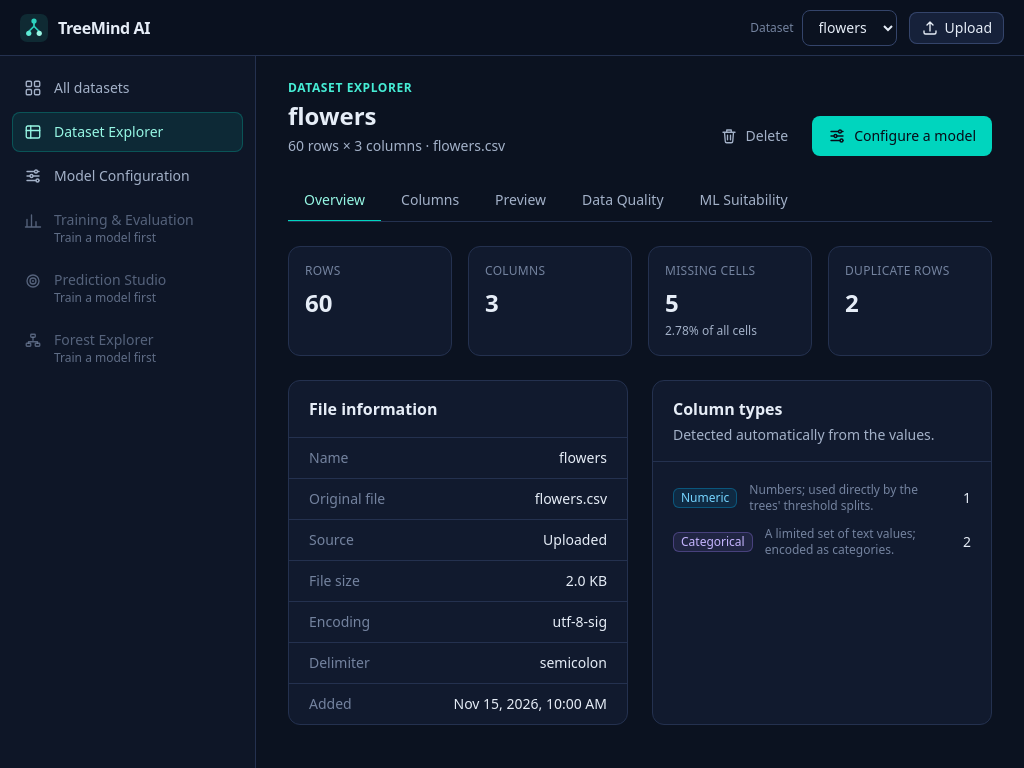
Dataset Explorer › deletes only after confirmation and returns to the workspace with a notice
Expected: the heading "flowers" is shown, [288, 99, 376, 132]
Click the button with aria-label "Delete flowers" at (754, 136), box [704, 116, 804, 156]
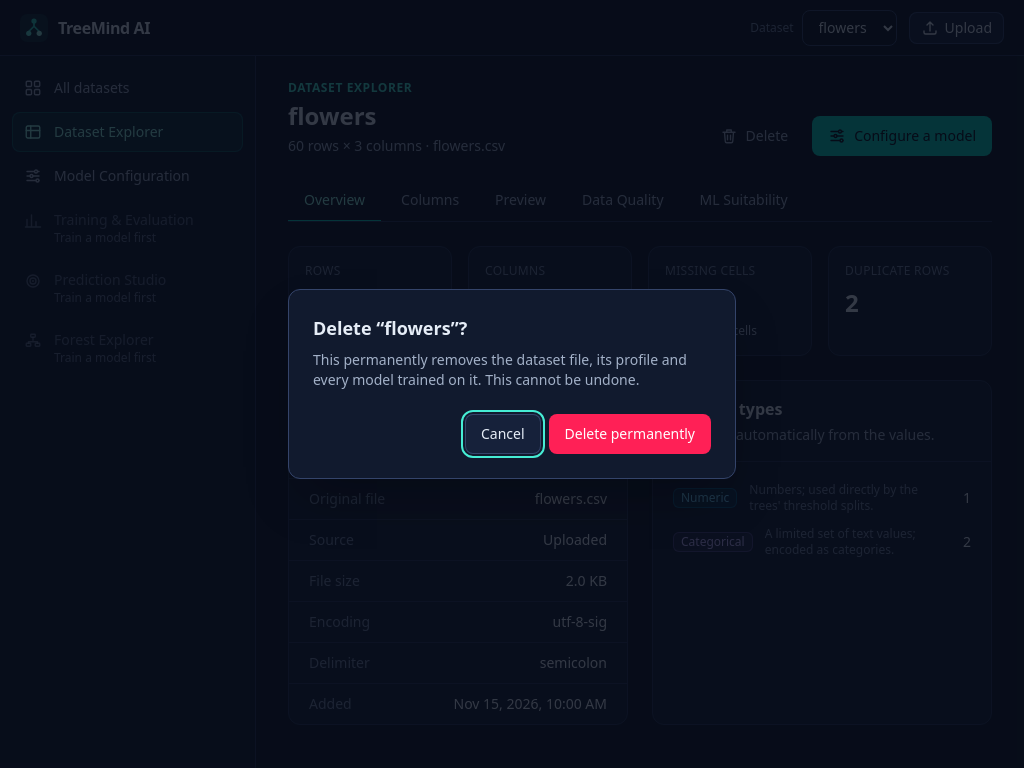
Click the button "Cancel" at (503, 434), box [465, 414, 541, 454]
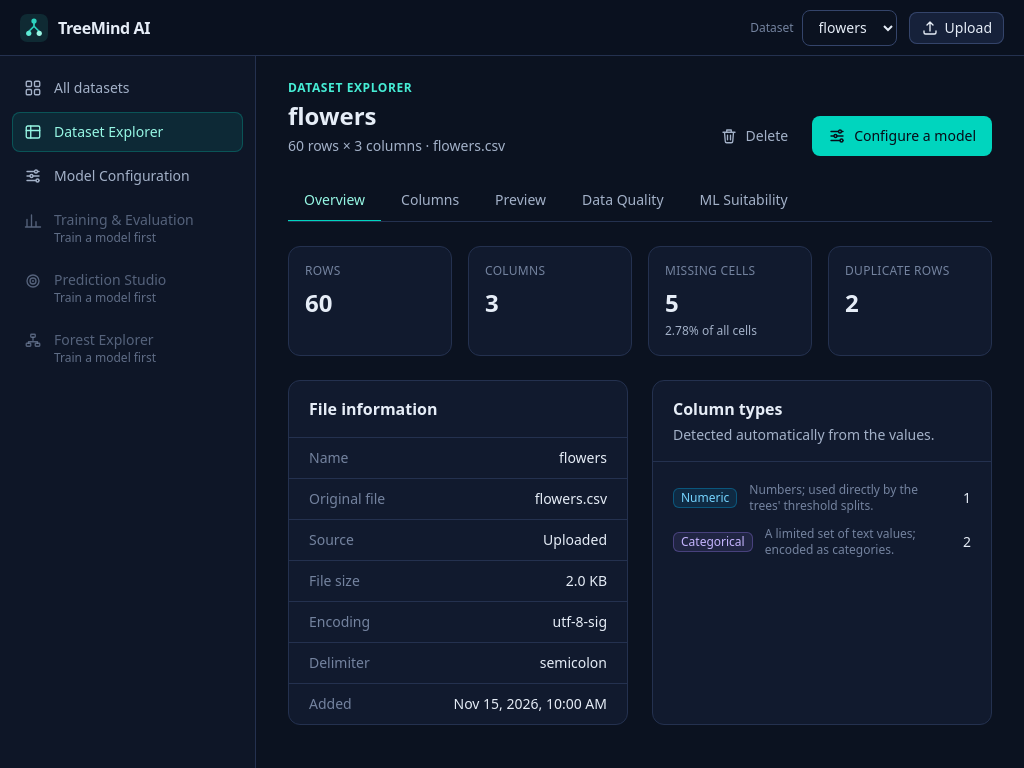
Result: the dialog is gone
Click the button with aria-label "Delete flowers" at (754, 136), box [704, 116, 804, 156]
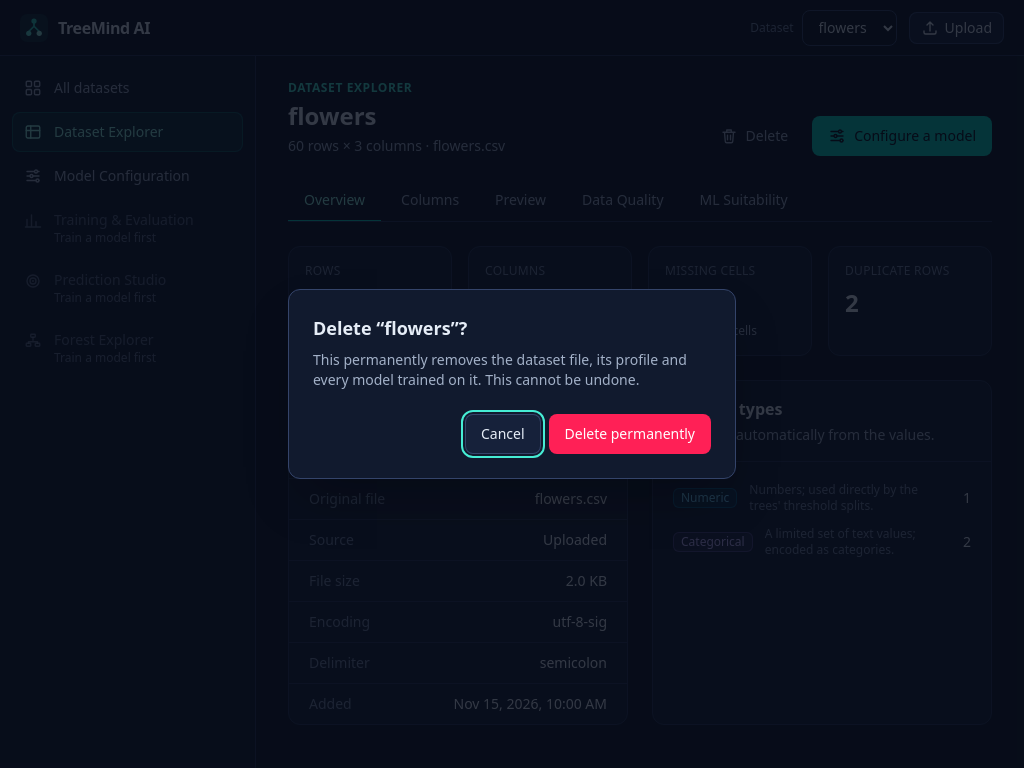
Press Escape
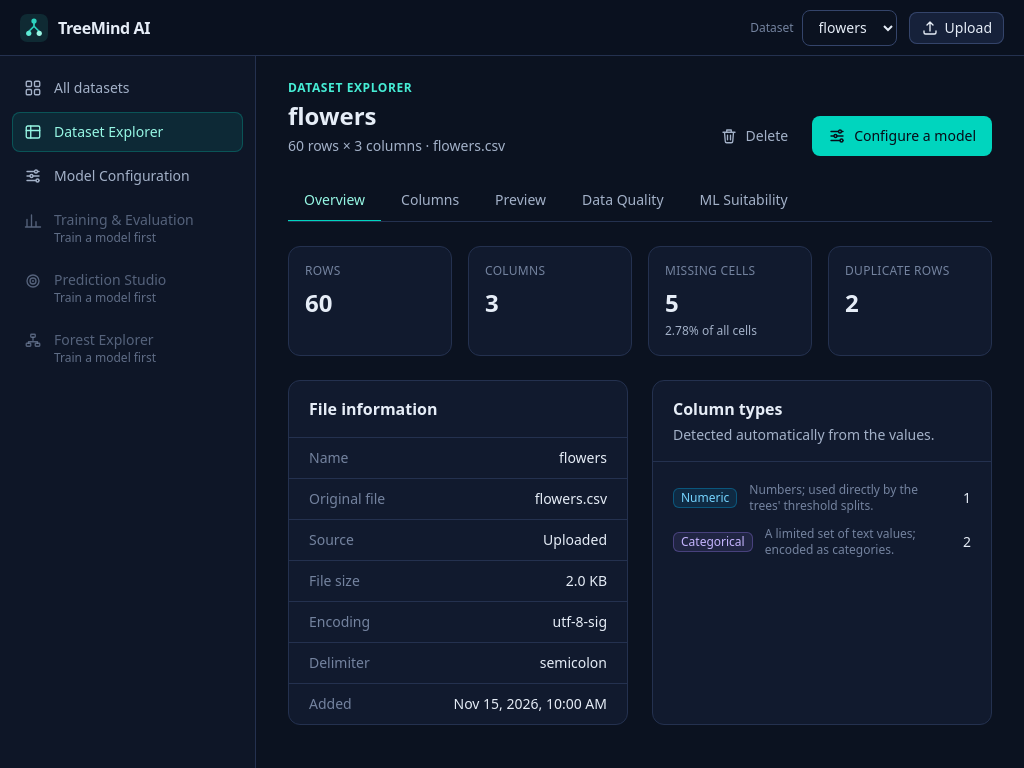
Result: the dialog is gone
Click the button with aria-label "Delete flowers" at (754, 136), box [704, 116, 804, 156]
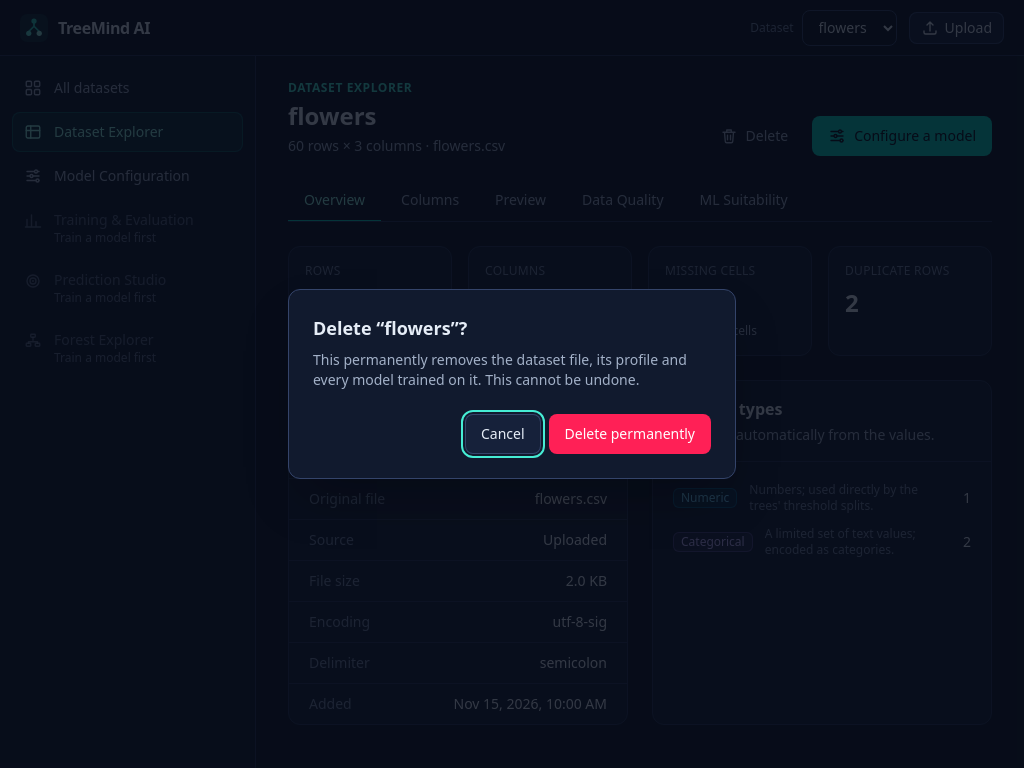
Click the button "Delete permanently" at (630, 434), box [548, 414, 711, 454]
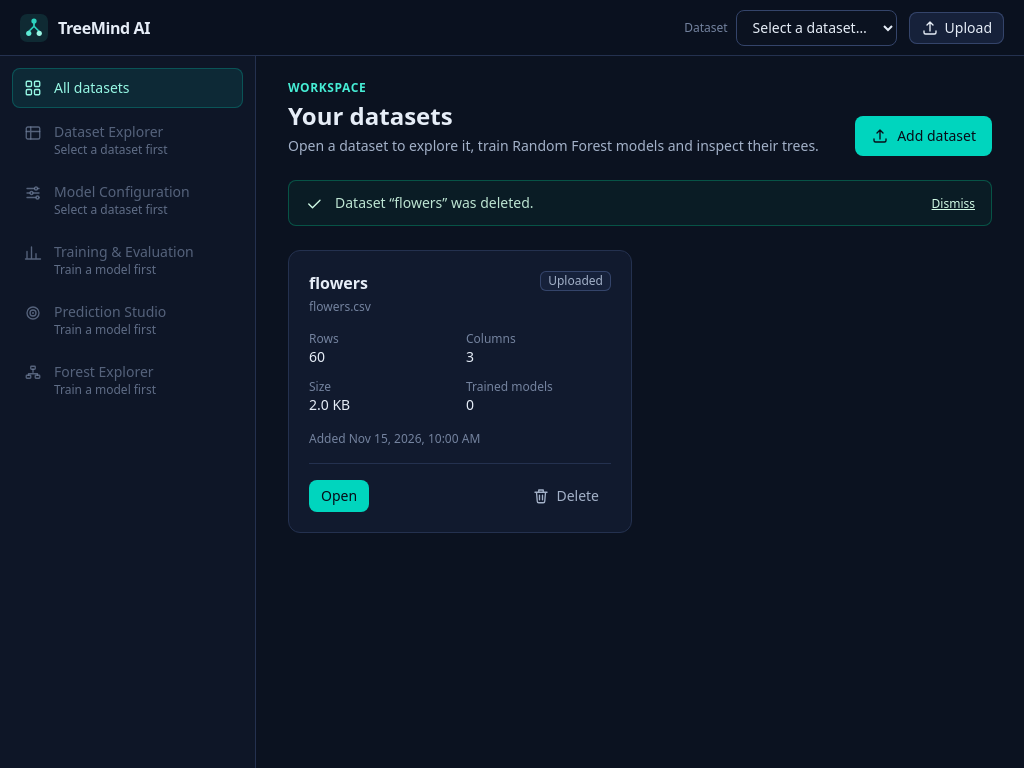
Result: the text "Dataset “flowers” was deleted." is shown at [335, 193, 534, 212]
